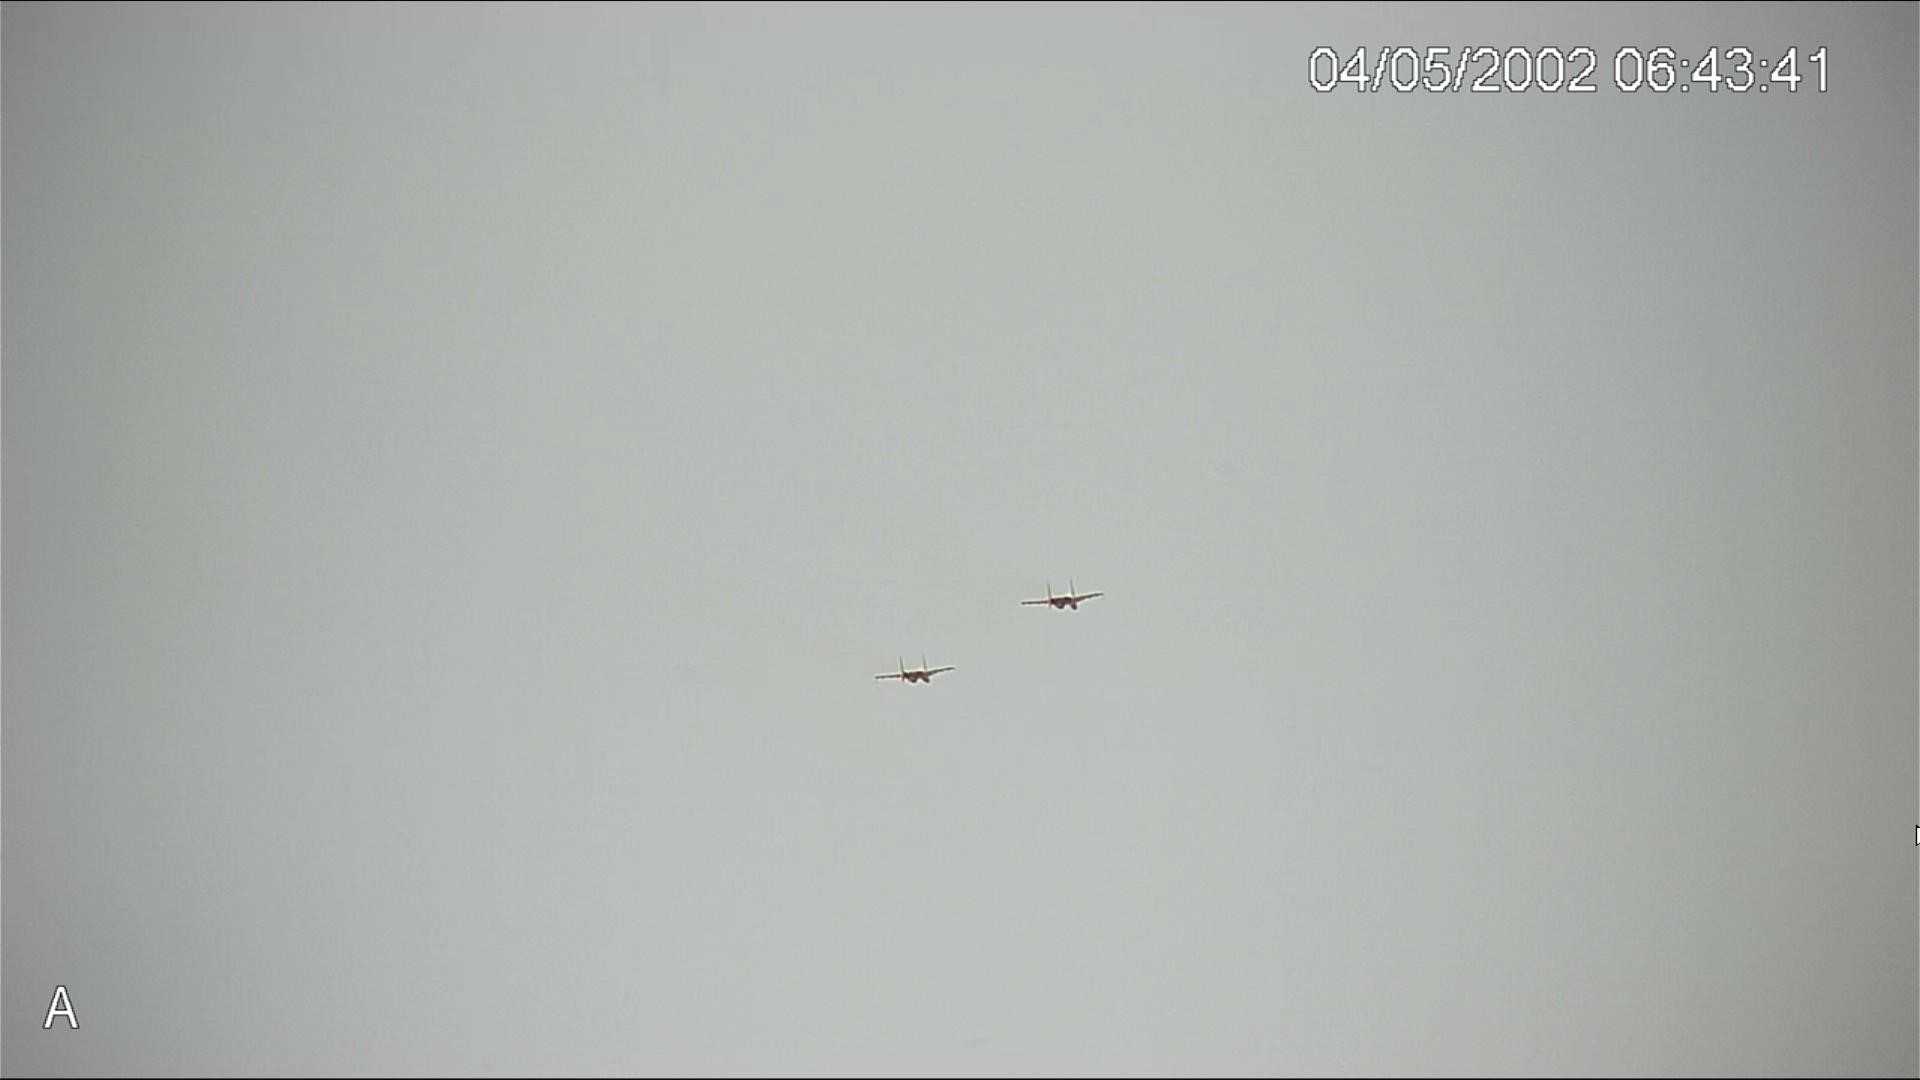SU_30: (1015, 583, 1109, 613), (878, 650, 956, 683)
